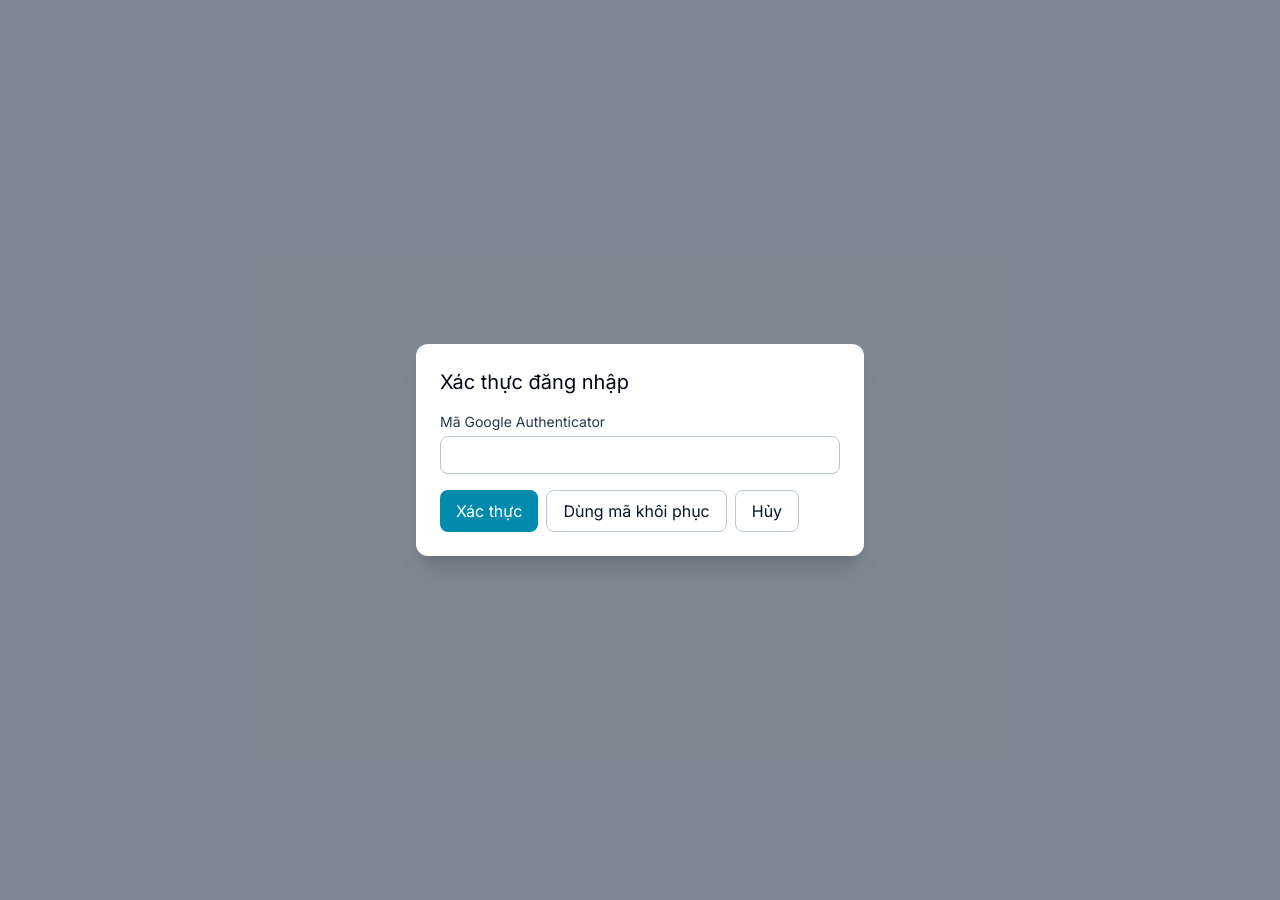
Test: ErpAuthenticatorDialog › keeps the dialog visible and shows an invalid TOTP error inline
The image size is (1280, 900).
Type "000000" into the field labelled "Mã Google Authenticator" at point(640, 455), box [440, 436, 840, 474]
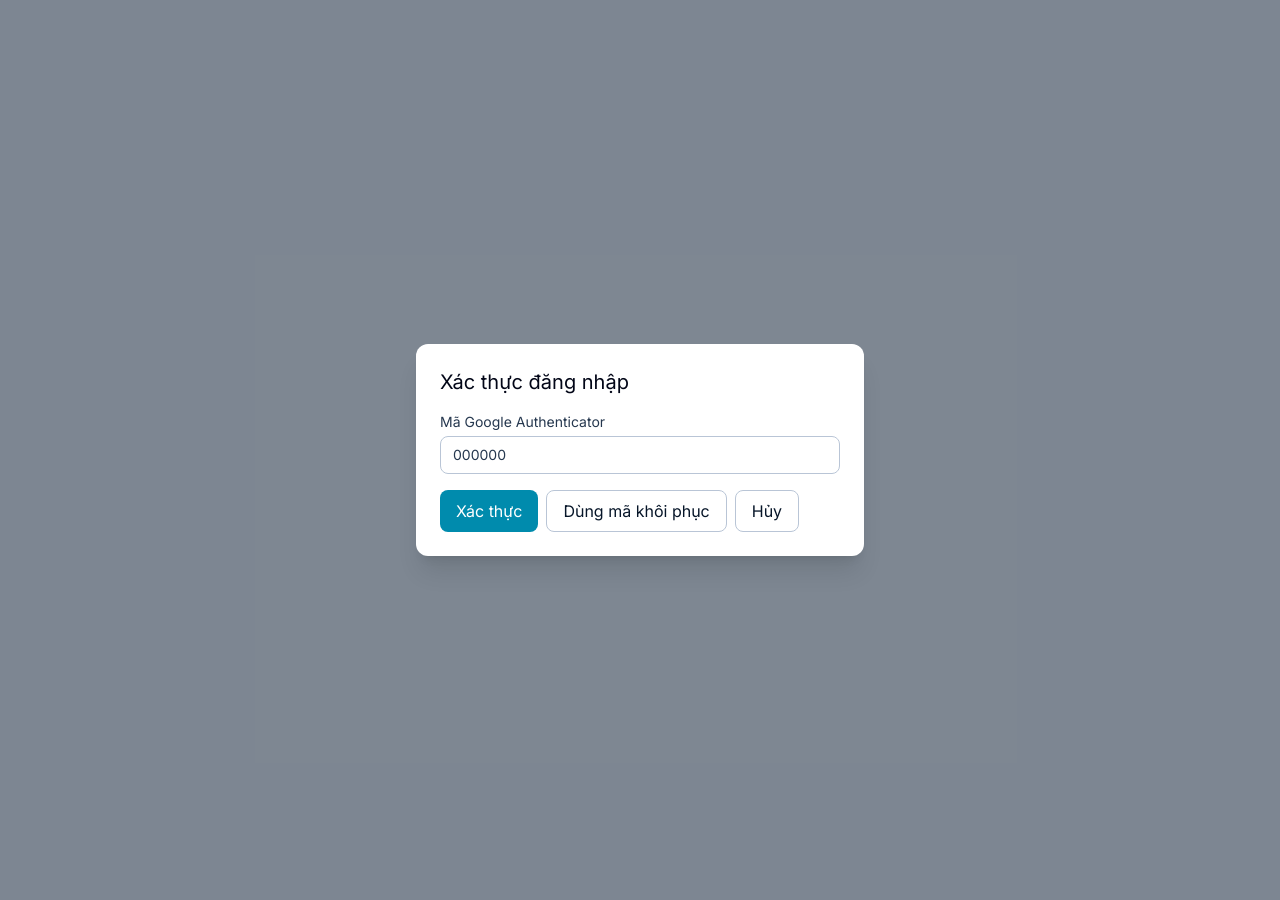
Click the button "Xác thực" at point(489, 511), box [440, 490, 538, 532]
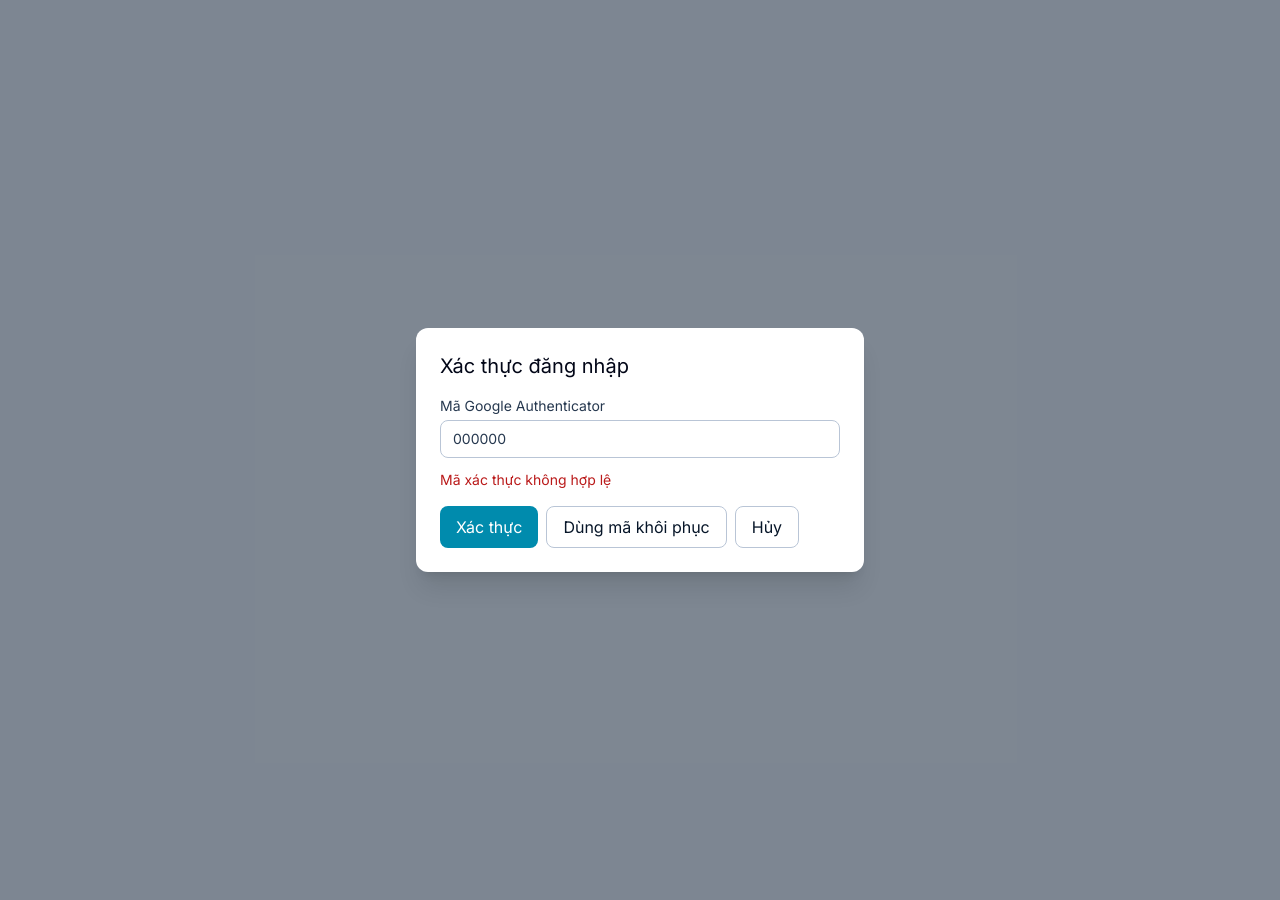
Check: the dialog is shown, box [416, 328, 864, 572]
Check: the text "Mã xác thực không hợp lệ" is shown, box [440, 471, 611, 488]
